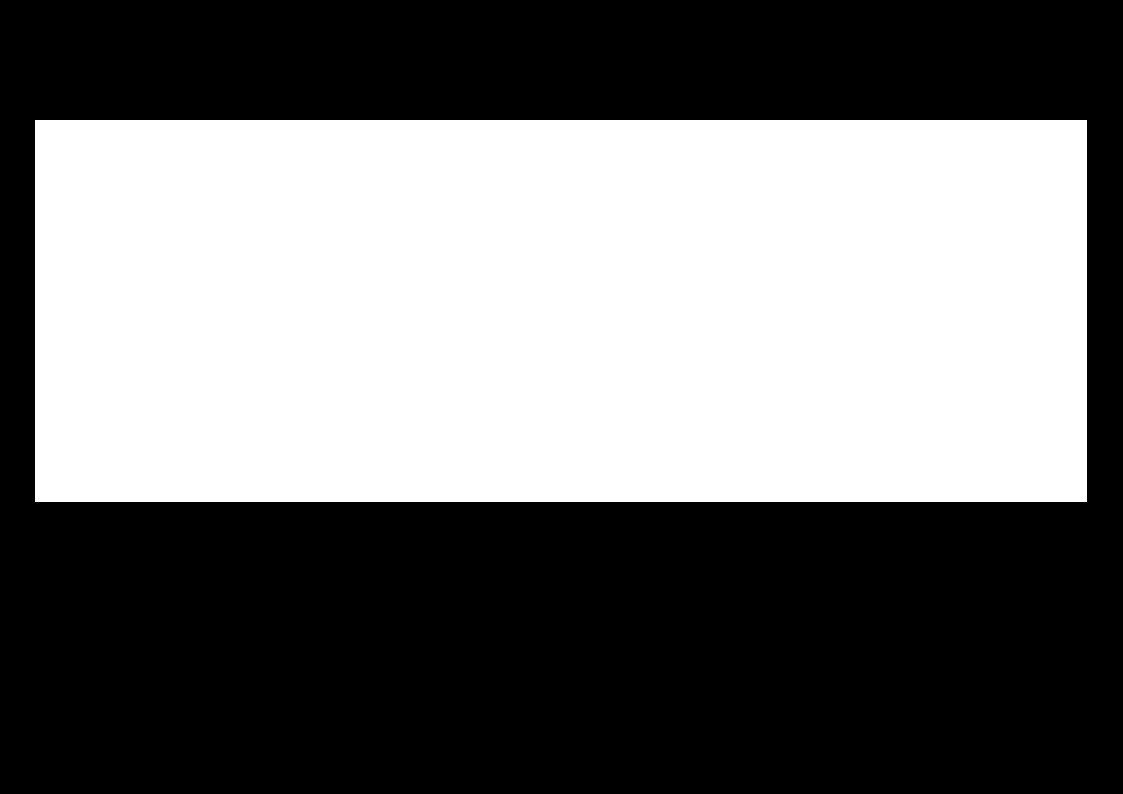table: (35, 120, 1086, 501)
